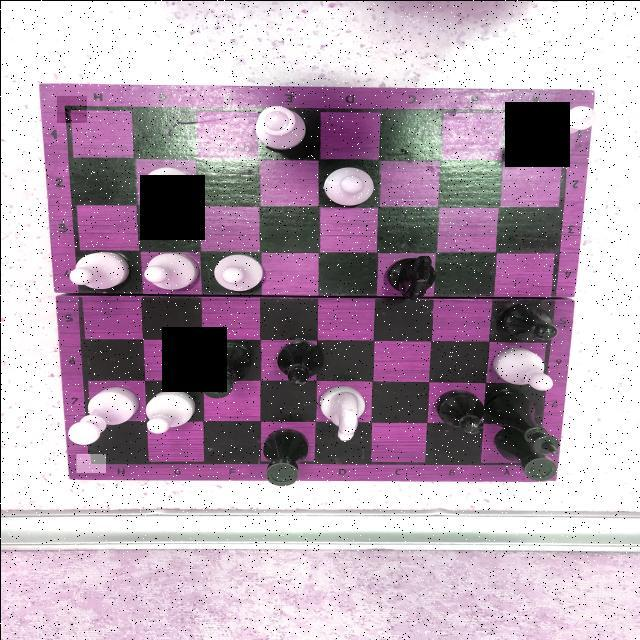chess-table-corners: (56, 95, 86, 122), (74, 453, 104, 472)
